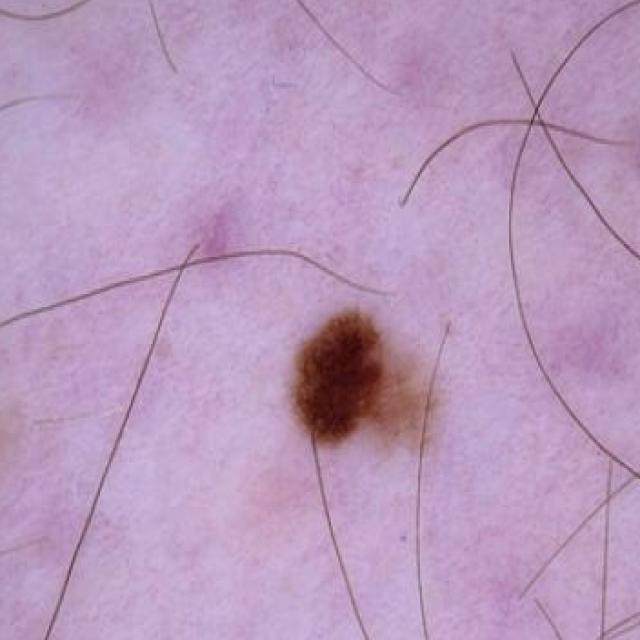NV: (282, 238, 446, 460)
